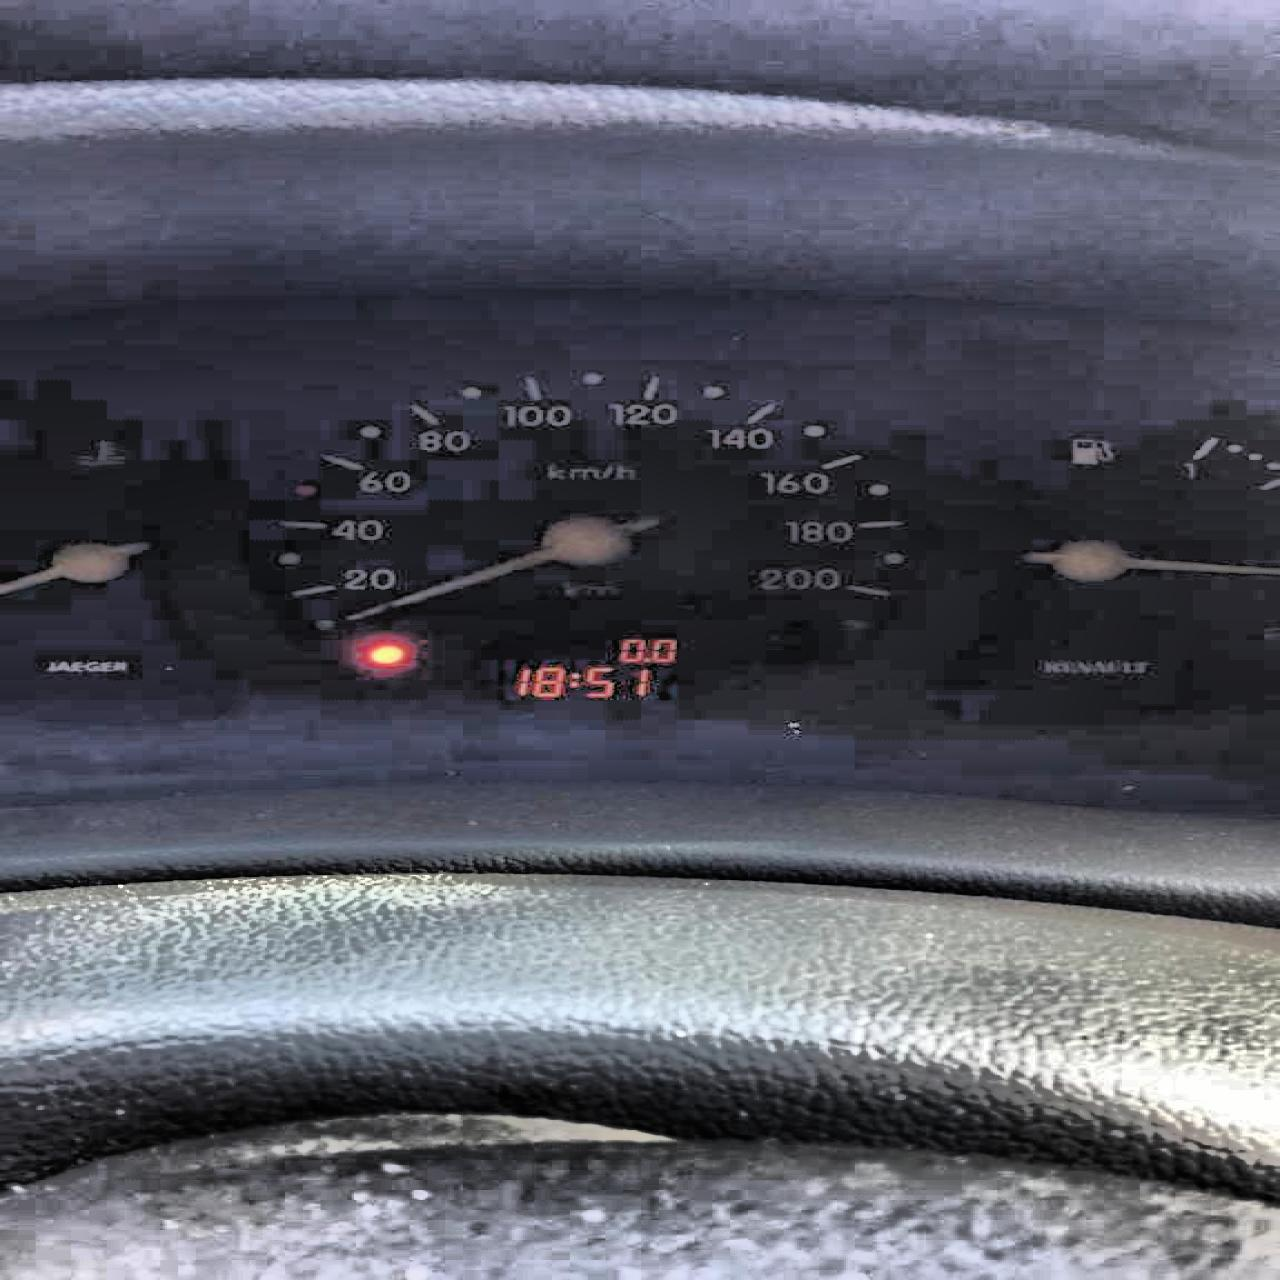-: (641, 656, 648, 661)
0: (619, 638, 644, 661), (652, 638, 675, 661)
1: (632, 666, 651, 696), (515, 666, 527, 696)
5: (584, 665, 617, 697)
8: (532, 665, 563, 696)
X: (565, 672, 579, 688)
odometer: (465, 627, 726, 708)
